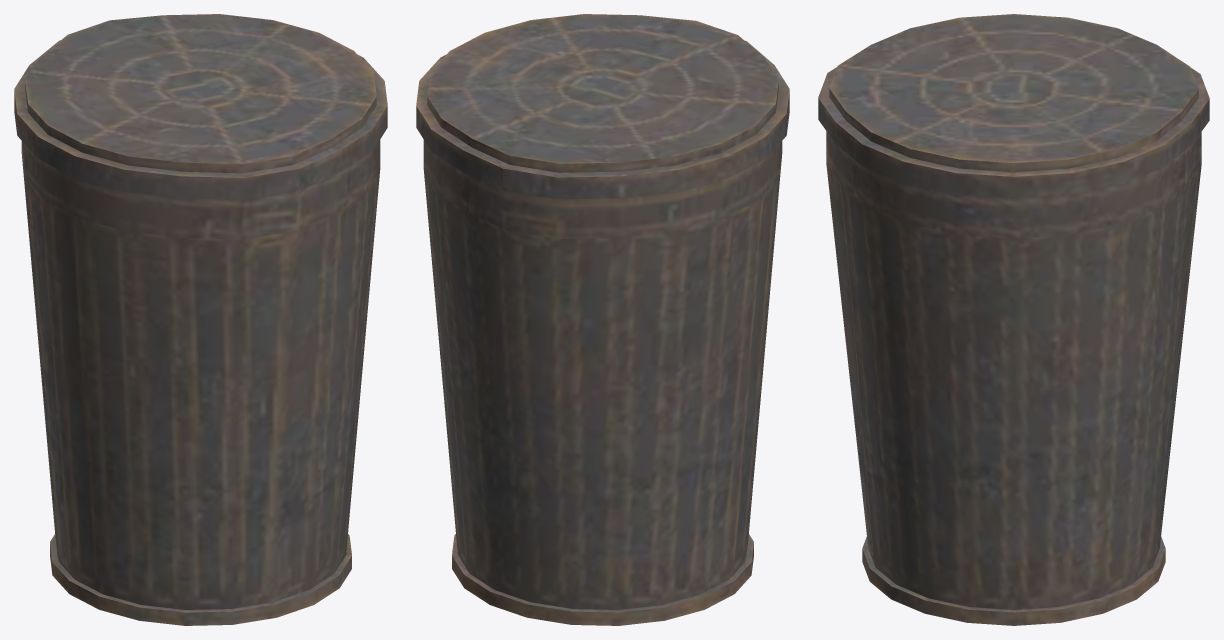
The model's file is bin_379.glb.
3 renders of one model, left to right at view 1: azimuth 30°, elevation 25°; view 2: azimuth 150°, elevation 25°; view 3: azimuth 270°, elevation 25°, orthographic.
Parts seen in each view (by area): view 1: bin_379; view 2: bin_379; view 3: bin_379.
Part boxes in pixels (box(x1,y1,x2,y2)): bin_379: box(14, 14, 387, 625); bin_379: box(416, 14, 789, 625); bin_379: box(818, 14, 1209, 625).
Size of the model in its own units: 0.503 by 0.7 by 0.525.
Materials: 1 (1 with a texture image).
